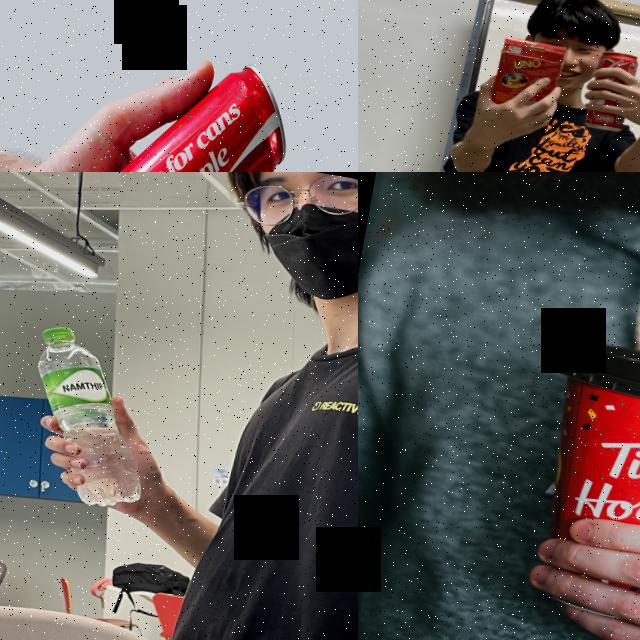bottle: (10, 322, 168, 516)
can: (6, 31, 300, 172), (582, 45, 640, 136)
cup: (517, 334, 640, 640)
